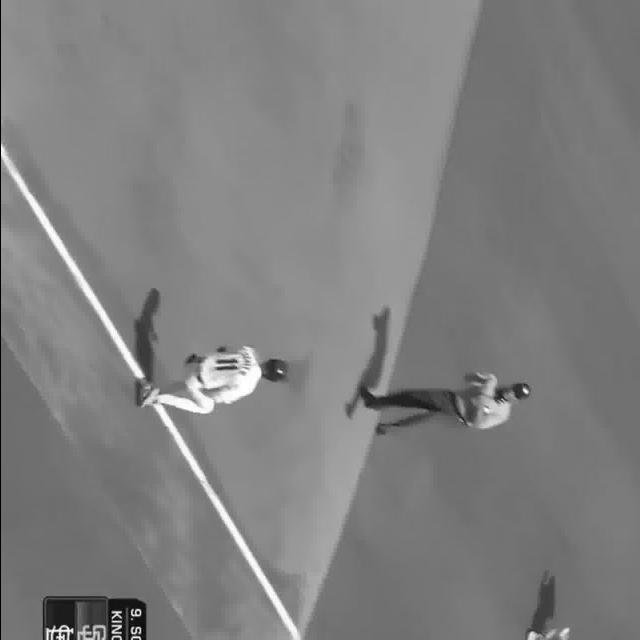shoe: (138, 386, 156, 414)
